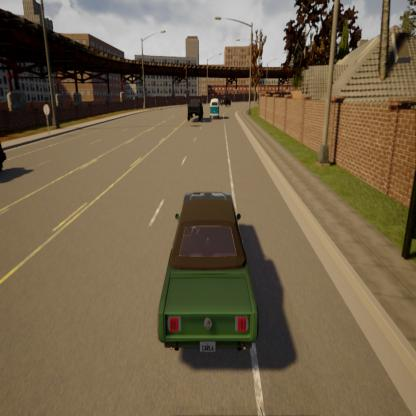Cars: (144, 176, 275, 374), (184, 93, 206, 128), (208, 94, 222, 128), (218, 88, 232, 108)
